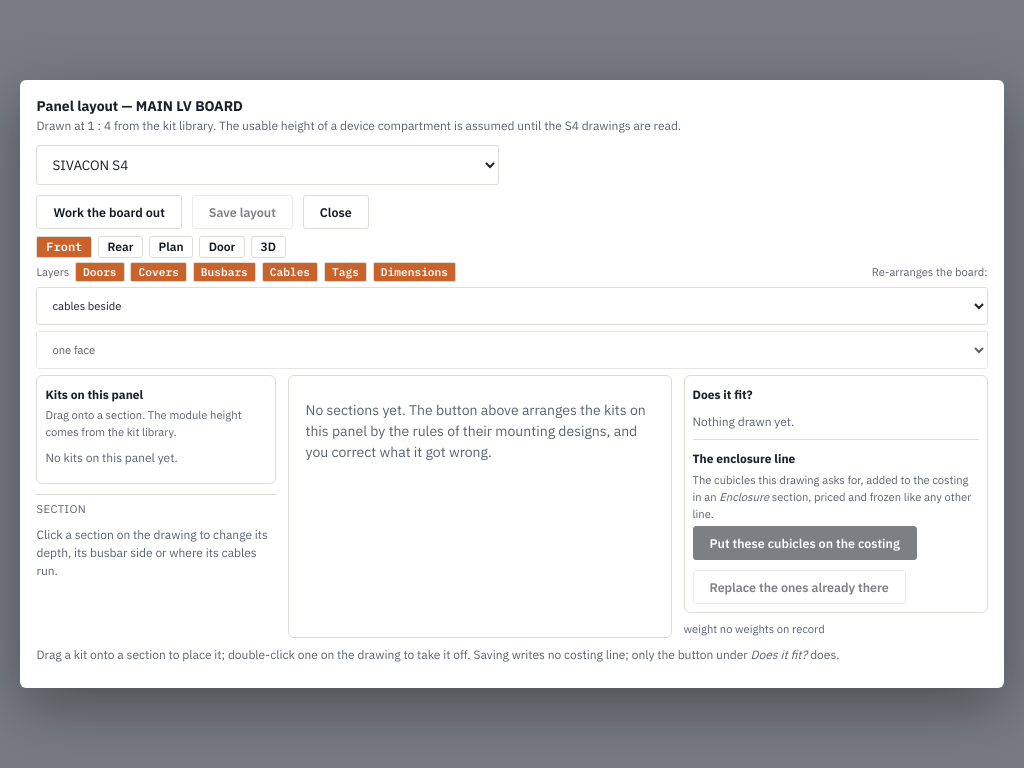
Test case: the other four views › starts on the front and moves to the back when asked
This screenshot has width=1024, height=768.
Click the button "Work the board out": click(109, 212) 36,195 -> 182,229
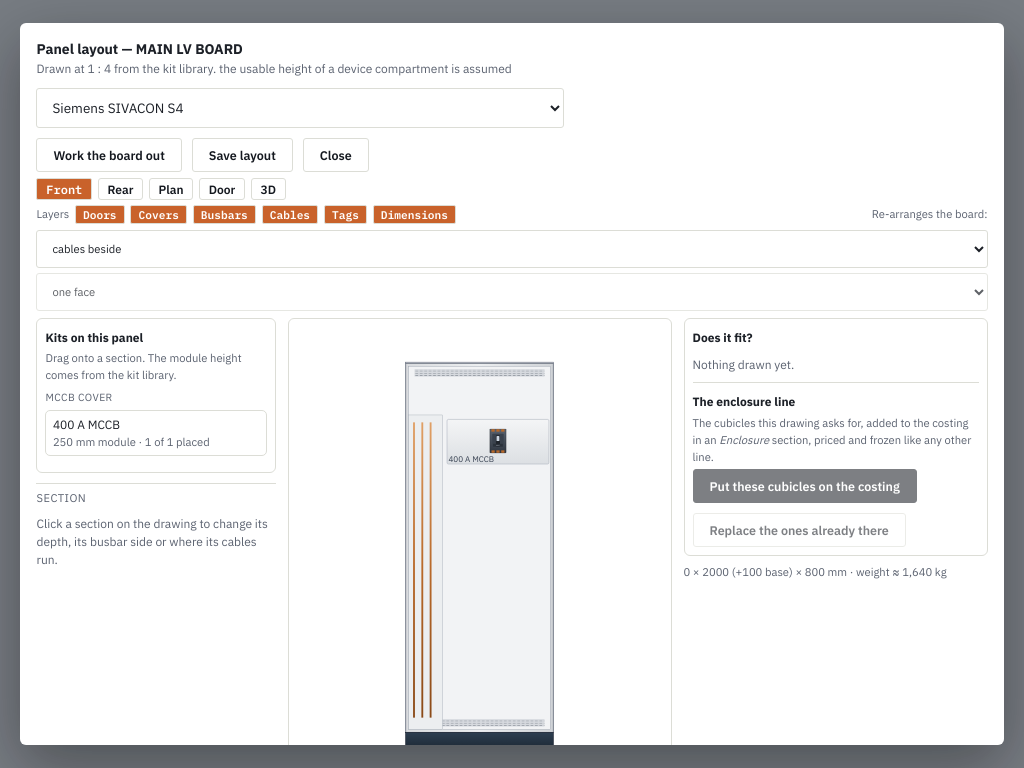
expect the picture named "Front view" is shown: met, box 290,319 -> 670,745
Click the button "Rear": click(120, 189) 98,178 -> 143,200
(page scrolled)
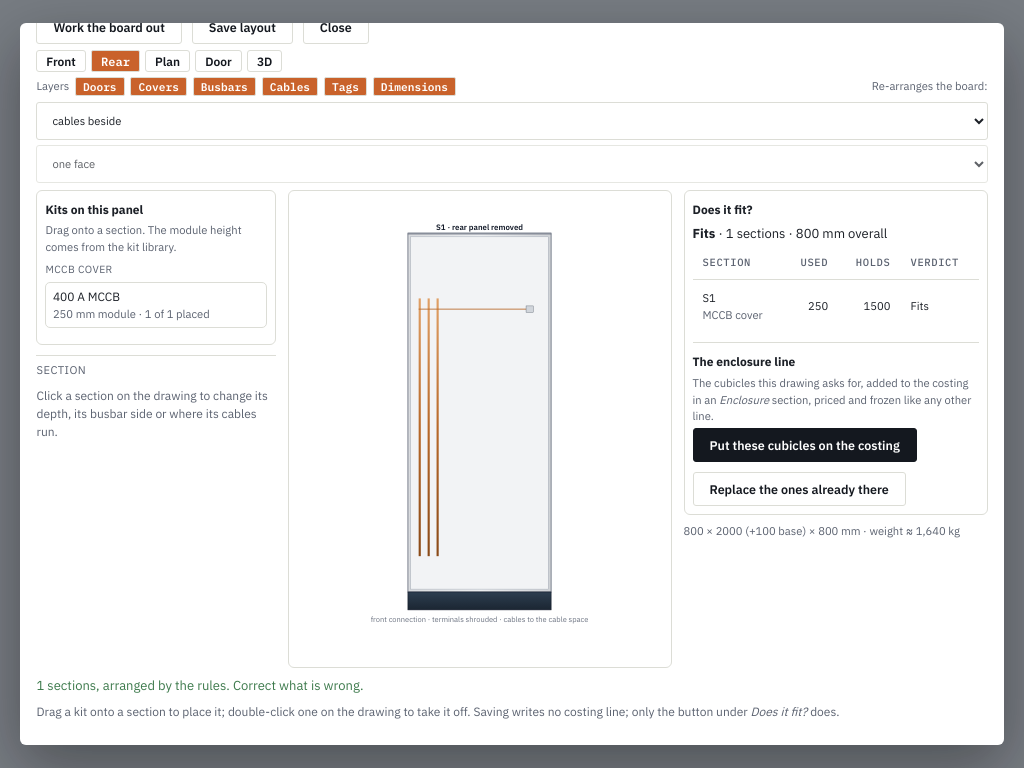
expect the picture named "Rear view, 1 sections mirrored" is shown: met, box 290,191 -> 670,667
